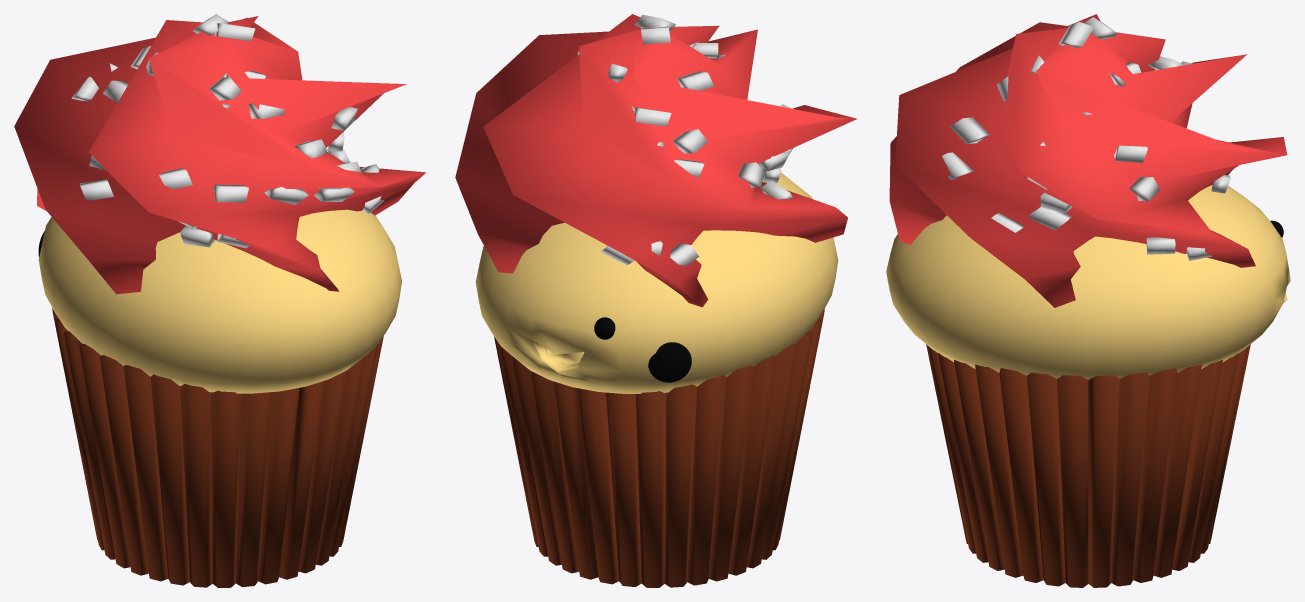
The model's file is cupcake.glb.
3 views of the same model, side by side, from view 1: azimuth 30°, elevation 25°; view 2: azimuth 150°, elevation 25°; view 3: azimuth 270°, elevation 25° (orthographic).
Parts seen in each view (by area): view 1: Star, Circle, Sphere, Cube (×4); view 2: Star, Circle, Sphere, Sphere.001, Cube (×3); view 3: Star, Circle, Sphere, Cube (×4).
Boxes of the visible parts, bbox=[...] form: Star: bbox=[14, 16, 426, 294]; Circle: bbox=[52, 308, 383, 587]; Sphere: bbox=[38, 209, 401, 393]; Cube (×4): bbox=[79, 23, 255, 247]; Star: bbox=[455, 14, 857, 307]; Circle: bbox=[494, 309, 824, 587]; Sphere: bbox=[475, 172, 838, 393]; Sphere.001: bbox=[594, 317, 691, 382]; Cube (×3): bbox=[634, 71, 714, 153]; Star: bbox=[889, 14, 1287, 307]; Circle: bbox=[926, 344, 1250, 587]; Sphere: bbox=[886, 185, 1290, 379]; Cube (×4): bbox=[949, 22, 1159, 230].
Size of the model in its own units: 2.03 by 2.83 by 2.02.
